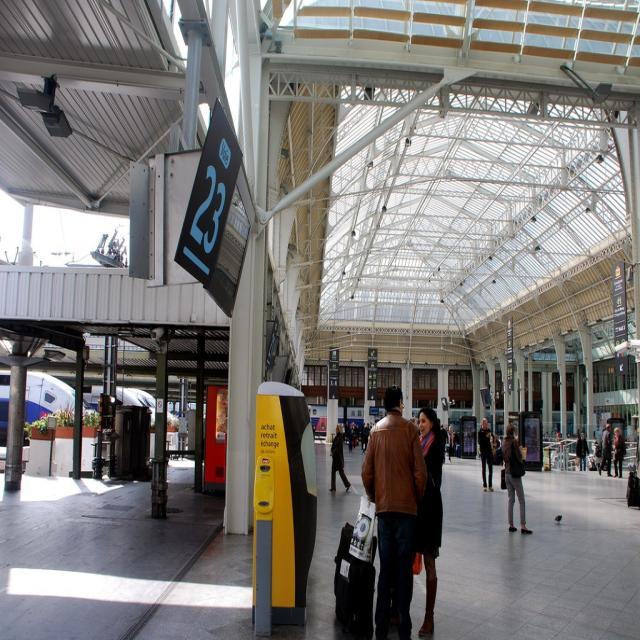body: (332, 382, 428, 639), (413, 404, 448, 639), (499, 420, 534, 534), (327, 422, 352, 494), (338, 415, 376, 457), (476, 417, 494, 493), (543, 423, 579, 452), (598, 422, 614, 478), (612, 426, 628, 478), (575, 431, 590, 472), (484, 430, 501, 461), (590, 438, 602, 474), (440, 424, 450, 464), (451, 430, 464, 458), (632, 424, 639, 476), (446, 423, 455, 462), (408, 410, 420, 434), (310, 417, 316, 442), (626, 434, 632, 443)
